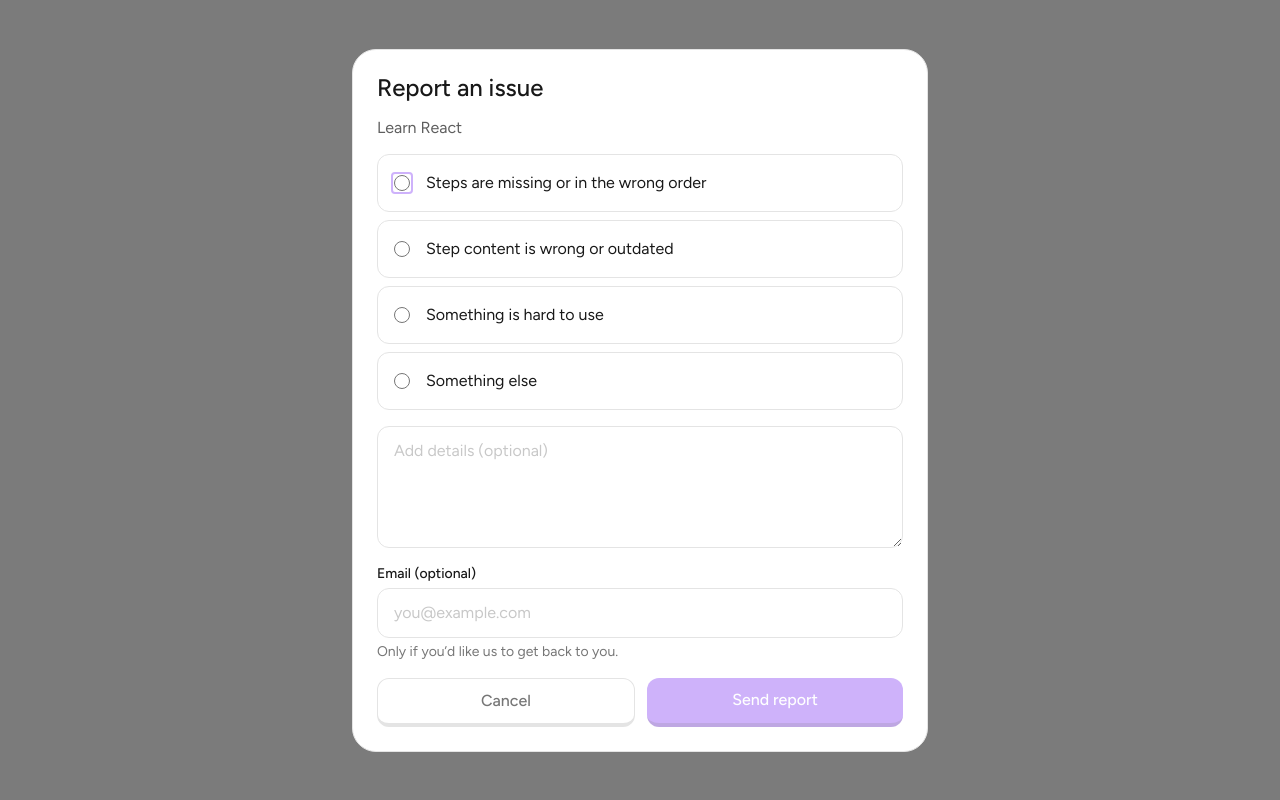
Test case: ReportIssueDialog › explains the rate limit and stays open
Click the radio button labelled "Something else": coordinates (402, 380) [394,372,410,388]
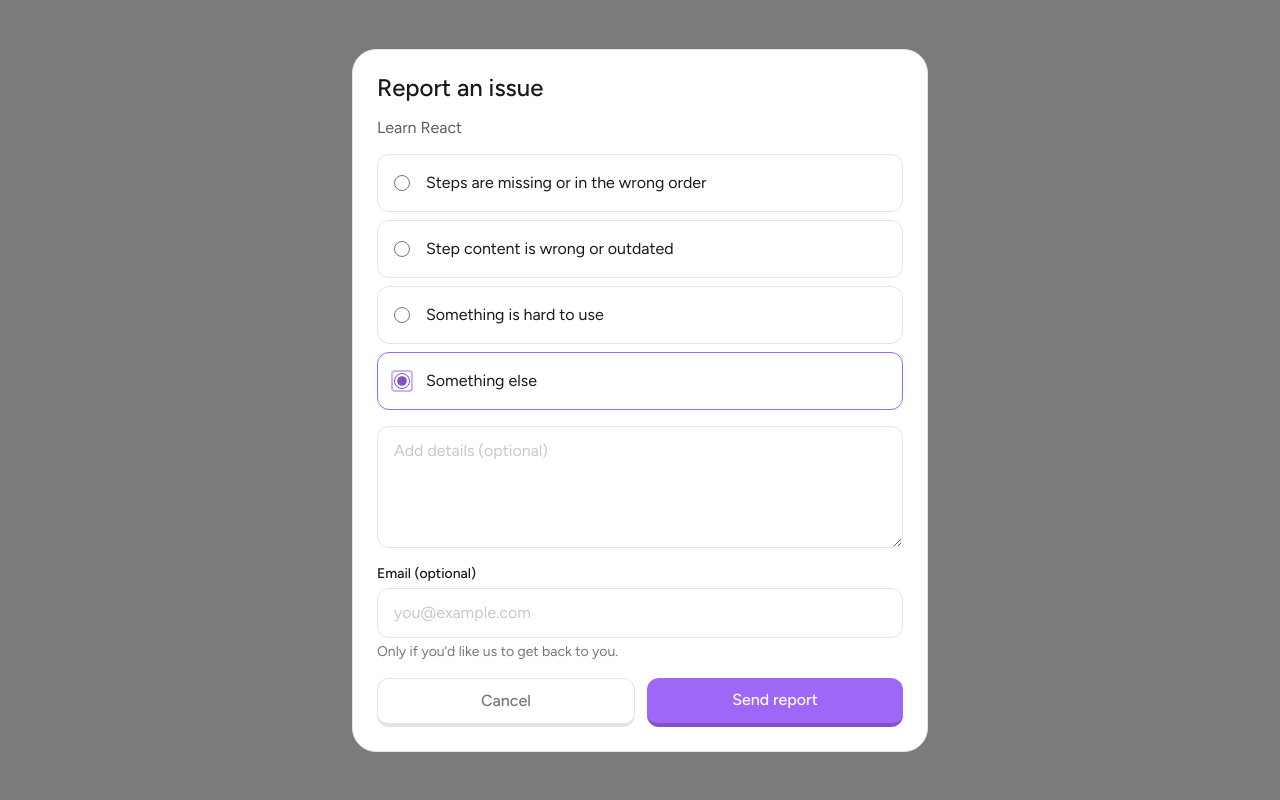
Click the button "Send report": coordinates (775, 702) [647,678,903,726]
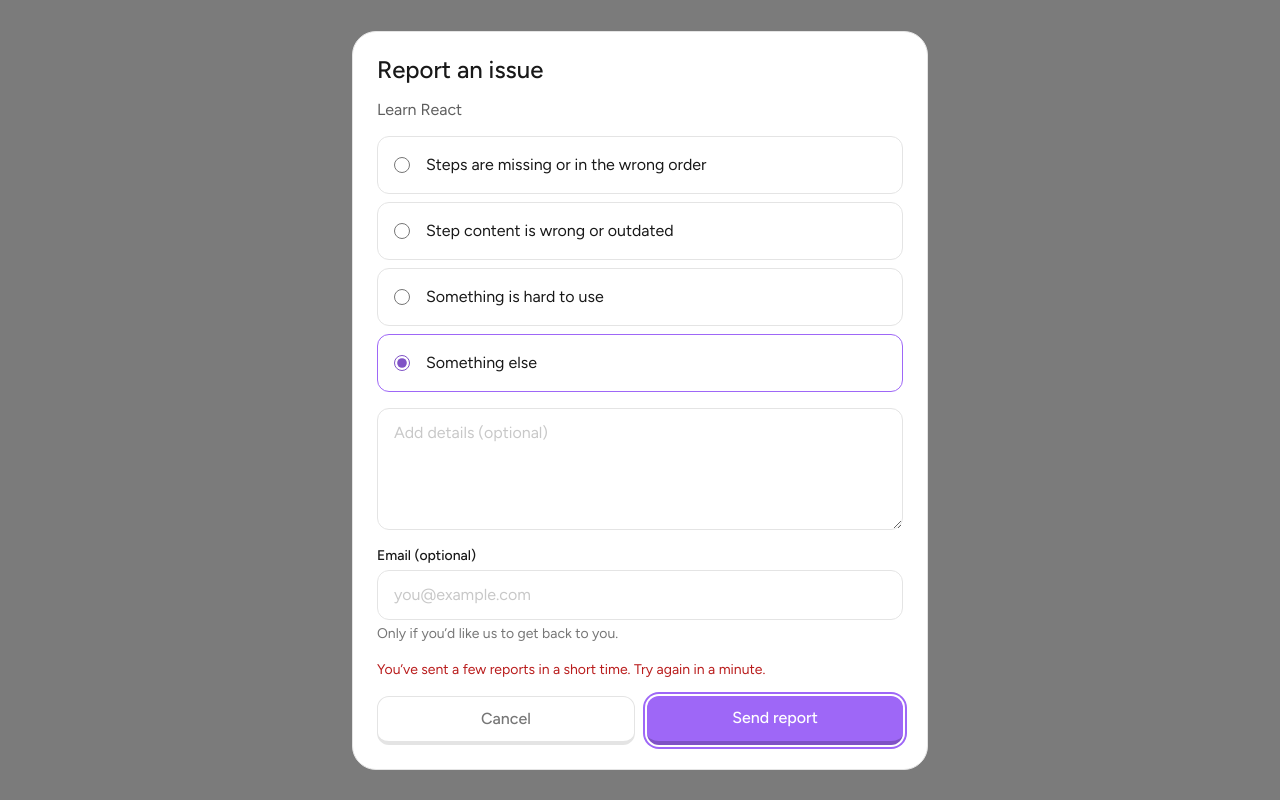
Now the message shows "sent a few reports", box [377,660,765,678]
